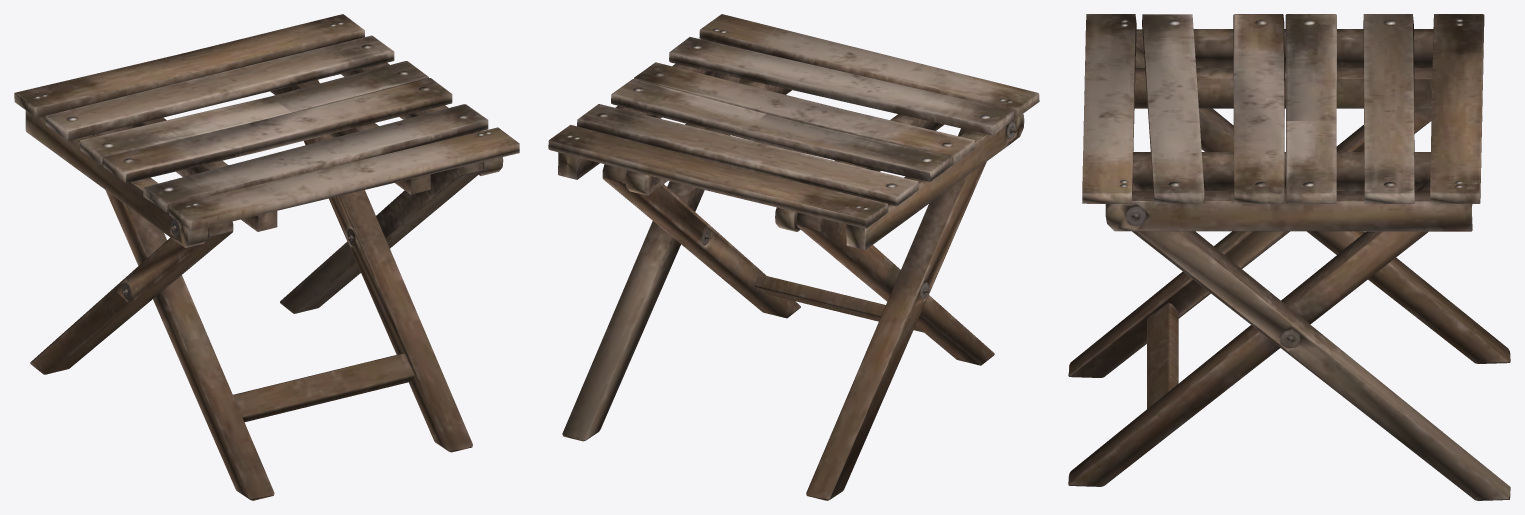
Rendered from folding_wooden_stool.glb.
3 renders of one model, left to right at view 1: azimuth 30°, elevation 25°; view 2: azimuth 150°, elevation 25°; view 3: azimuth 270°, elevation 25°, orthographic. The views are drawn at different scales.
Parts seen in each view (by area): view 1: folding_wooden_stool; view 2: folding_wooden_stool; view 3: folding_wooden_stool.
Boxes of the visible parts, box(x1,y1,x2,y2) form: folding_wooden_stool: box(14, 14, 519, 500); folding_wooden_stool: box(548, 14, 1039, 500); folding_wooden_stool: box(1068, 14, 1510, 500).
Size of the model in its own units: 0.527 by 0.4401 by 0.5471.
1 material, 1 textured.
